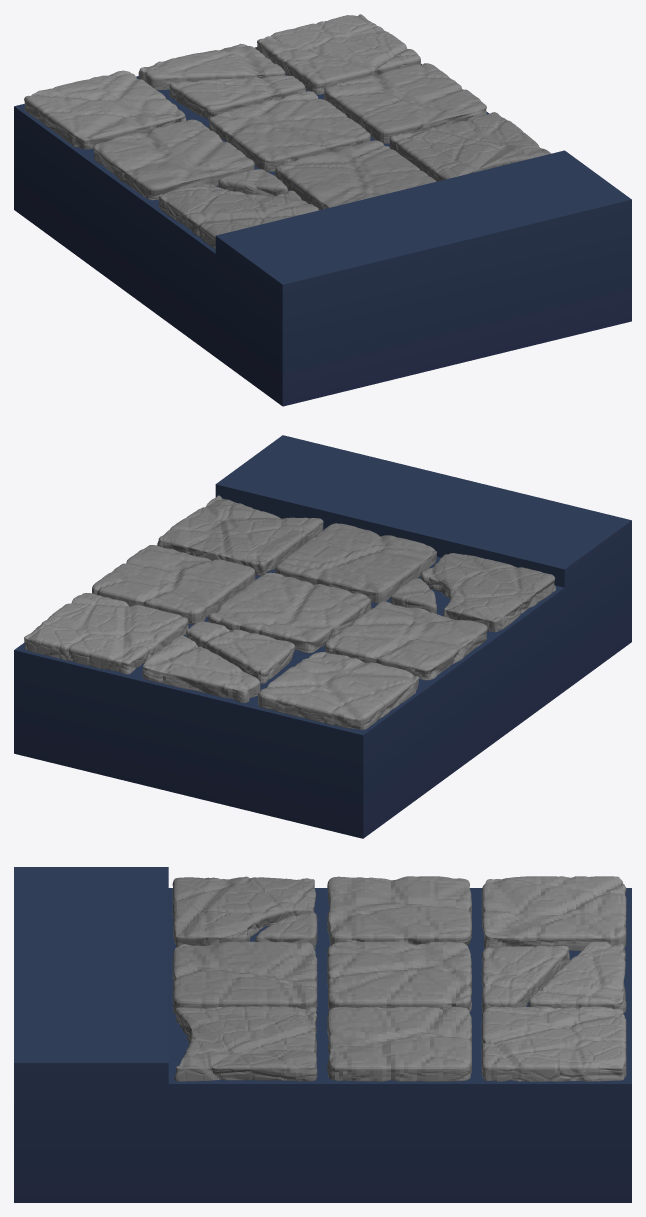
The model's file is Piso-3.fbx.
The picture shows the model from 3 angles, top to bottom: view 1: azimuth 30°, elevation 25°; view 2: azimuth 150°, elevation 25°; view 3: azimuth 270°, elevation 25°; orthographic projection. The views are drawn at different scales.
Parts seen in each view (by area): view 1: Floor.005, Cube.028; view 2: Floor.005, Cube.028; view 3: Floor.005, Cube.028.
Boxes of the visible parts, x1,y1,x2,y2 form: Floor.005: (14, 47, 631, 406); Cube.028: (24, 14, 550, 249); Floor.005: (14, 435, 631, 838); Cube.028: (24, 495, 556, 729); Floor.005: (14, 867, 631, 1202); Cube.028: (172, 876, 626, 1081).
Bounding box in the file's own units: 600 × 200 × 800.
